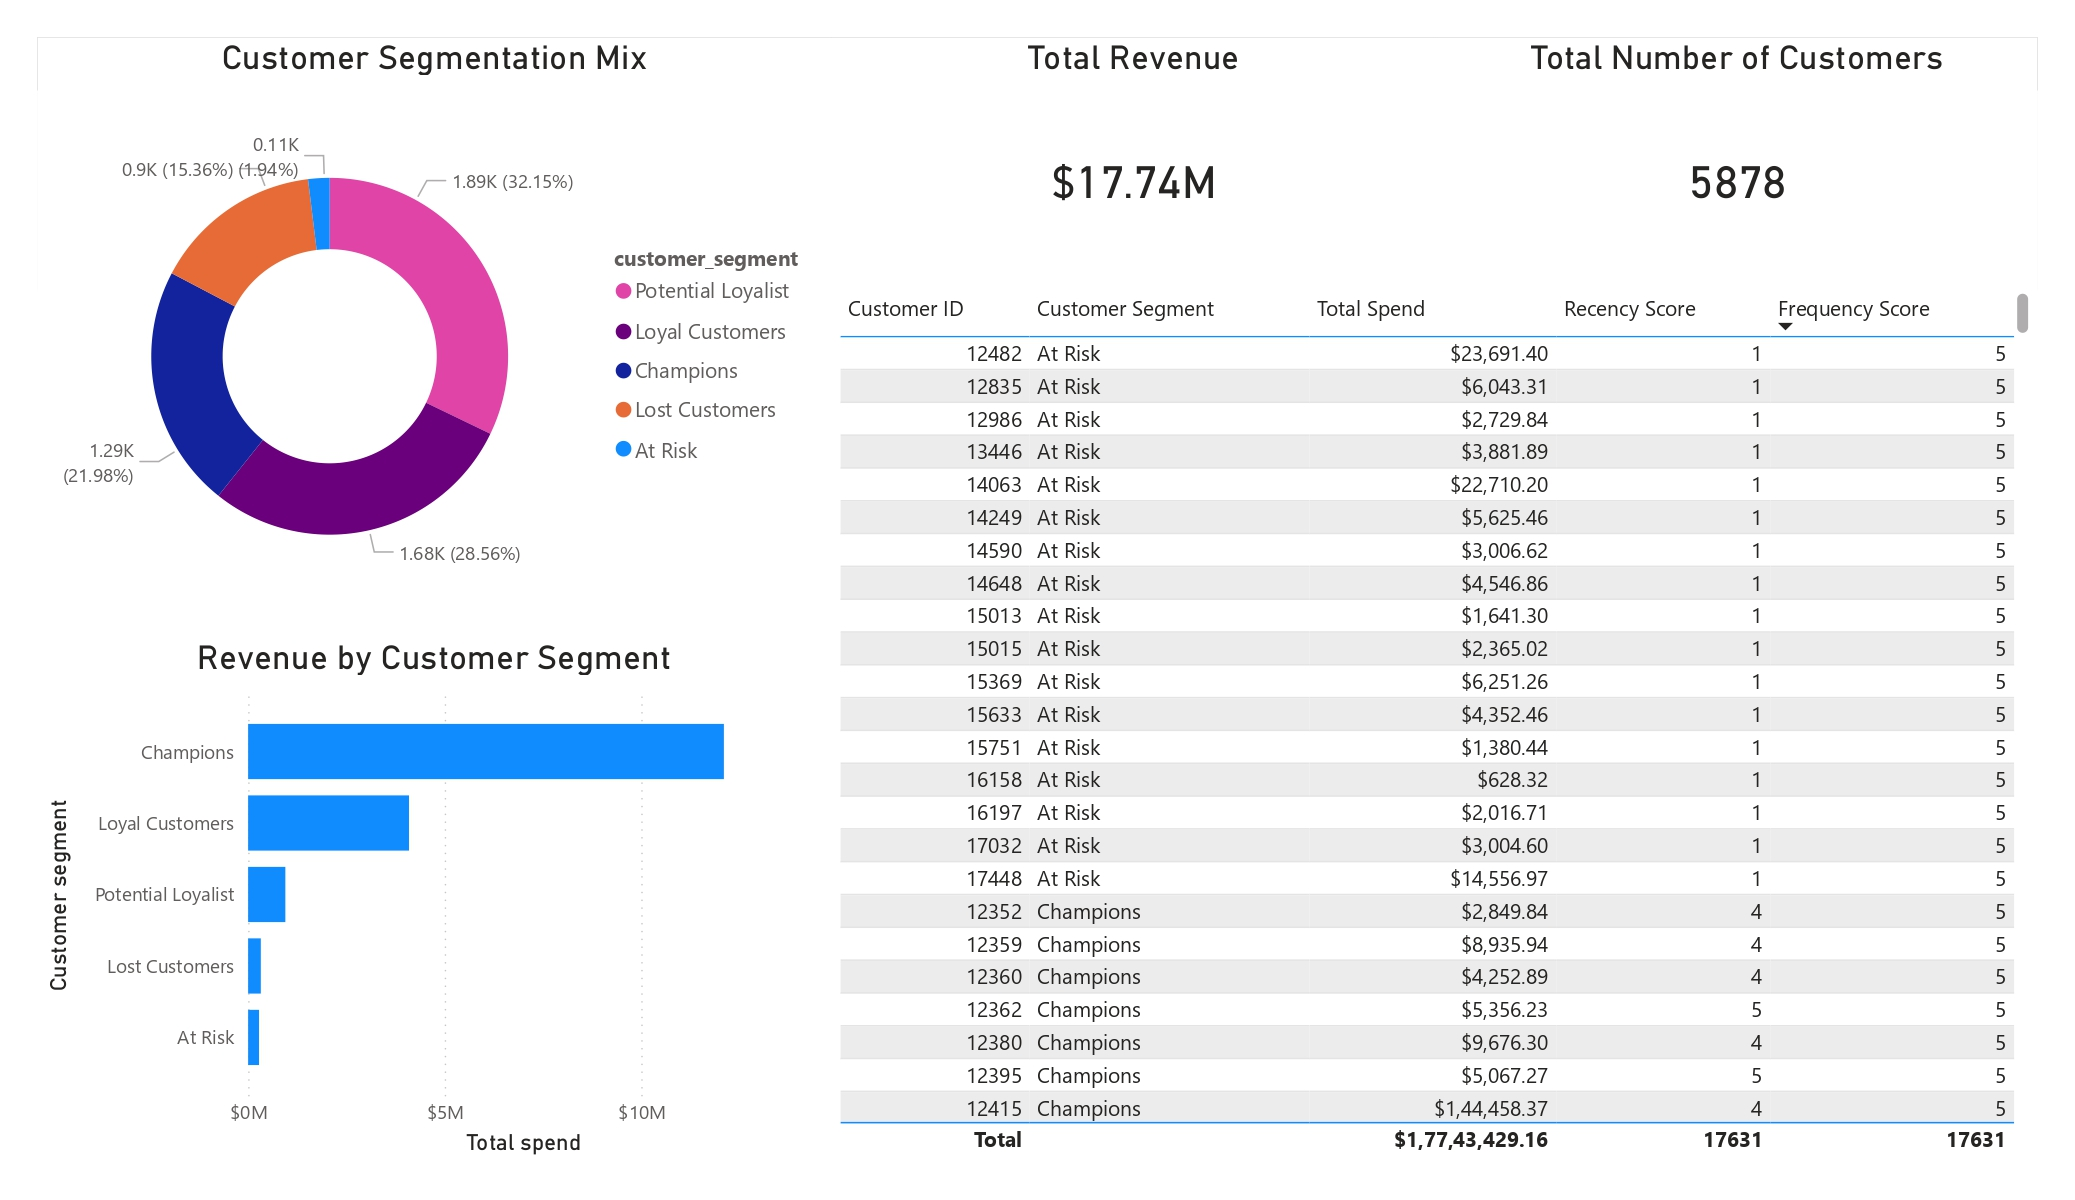

Layout of this report page (visuals, bound fields, positions):
{"tool":"powerbi","page":{"name":"Page 1","canvas":[1280,720],"ordinal":0},"visuals":[{"type":"donutChart","title":"Customer Segmentation Mix","fields":{"Category":["rfm_final.customer_segment"],"Y":["CountNonNull(rfm_final.customer_segment)"]},"box":[0,0,507.7,384.2],"z":0},{"type":"barChart","title":"Revenue by Customer Segment","fields":{"Y":["Sum(rfm_final.total_spend)"],"Category":["rfm_final.customer_segment"]},"box":[0,384.2,507.7,336.2],"z":1000},{"type":"tableEx","fields":{"Values":["rfm_final.customerid","rfm_final.customer_segment","Sum(rfm_final.total_spend)","Sum(rfm_final.recency_score)","Sum(rfm_final.frequency_score)"]},"box":[507.7,157.8,772.6,562.6],"z":2000},{"type":"card","title":"Total Revenue","fields":{"Values":["Sum(rfm_final.total_spend)"]},"box":[507.7,0,387,157.8],"z":2001},{"type":"card","title":"Total Number of Customers","fields":{"Values":["Count(rfm_final.customerid)"]},"box":[894.7,0,385.6,157.8],"z":2002}]}

Visuals, with their boxes on the page's 1280x720 design canvas (x1, y1, x2, y2). These are canvas units, not pixel positions in the 2075x1200 screenshot, which may show the page scaled, cropped or inside an application window:
"Customer Segmentation Mix" donutChart: [left=0, top=0, right=508, bottom=384]
"Revenue by Customer Segment" barChart: [left=0, top=384, right=508, bottom=720]
tableEx - rfm_final.customerid x rfm_final.customer_segment: [left=508, top=158, right=1280, bottom=720]
"Total Revenue" card: [left=508, top=0, right=895, bottom=158]
"Total Number of Customers" card: [left=895, top=0, right=1280, bottom=158]
